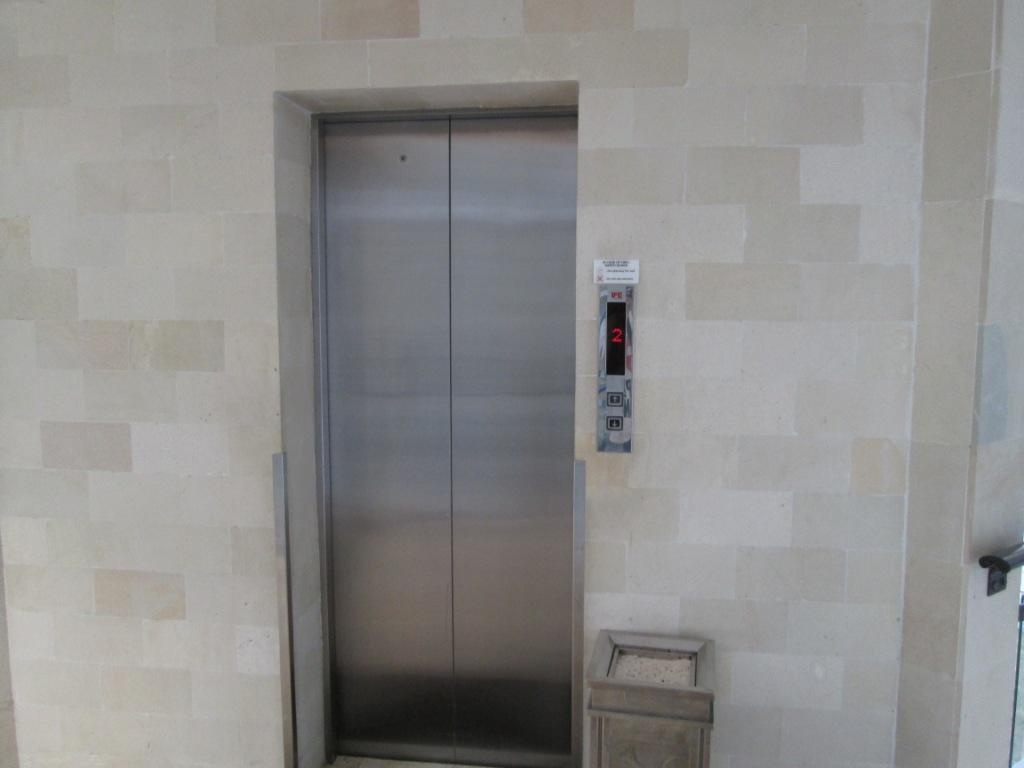down: (604, 414, 624, 431)
led: (603, 299, 627, 378)
up: (604, 390, 624, 408)
